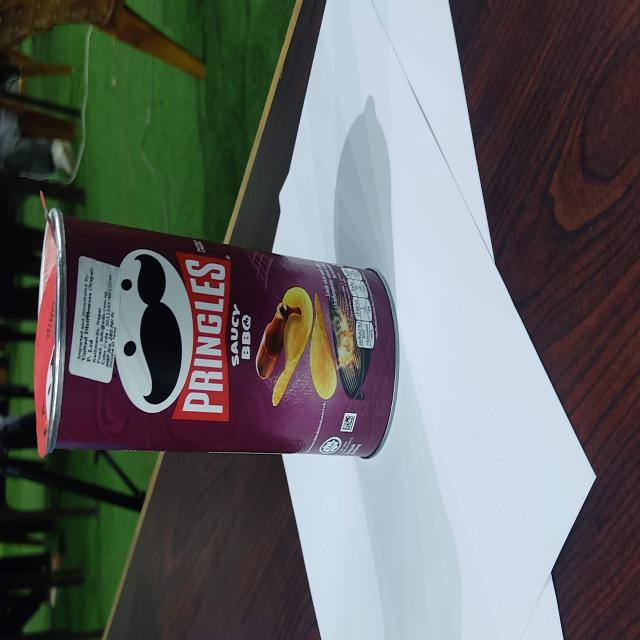Camer Stand: (32, 191, 400, 462)
